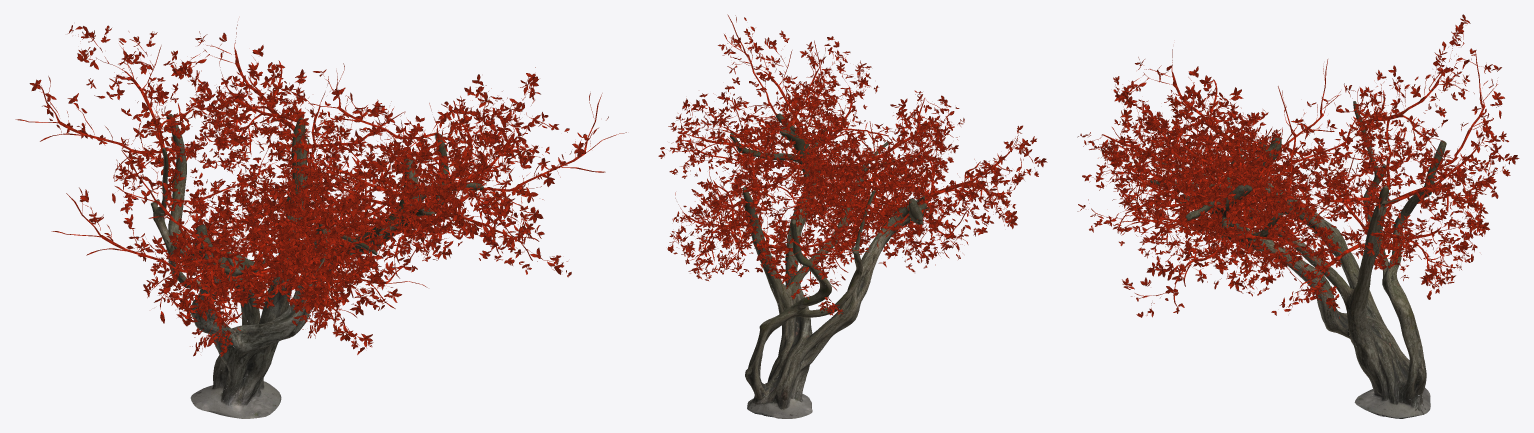
File: entrance_trees.glb
The picture shows the model from 3 angles, left to right: view 1: azimuth 30°, elevation 25°; view 2: azimuth 150°, elevation 25°; view 3: azimuth 270°, elevation 25°; orthographic projection. The views are drawn at different scales.
Parts seen in each view (by area): view 1: NAT_maple, NAT_maple_crown; view 2: NAT_maple, NAT_maple_crown; view 3: NAT_maple, NAT_maple_crown.
Part boxes in pixels (left/top/right/bottom): NAT_maple: left=15, top=24, right=626, bottom=418; NAT_maple_crown: left=49, top=75, right=567, bottom=347; NAT_maple: left=658, top=14, right=1047, bottom=418; NAT_maple_crown: left=669, top=64, right=1014, bottom=315; NAT_maple: left=1077, top=14, right=1519, bottom=418; NAT_maple_crown: left=1108, top=66, right=1498, bottom=313.
Size of the model in its own units: 7.77 by 6.26 by 7.52.
Materials: 4 (4 with a texture image).
